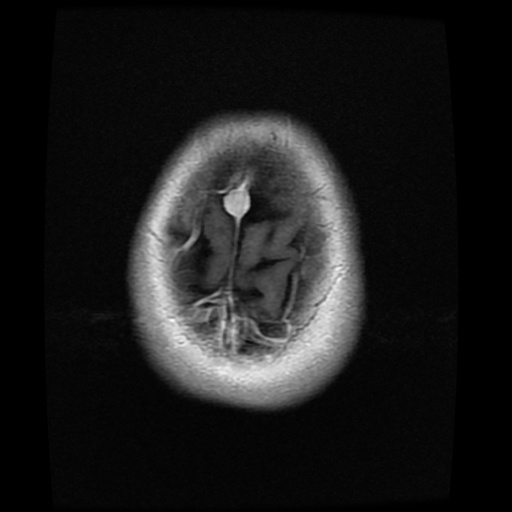meningioma: (223, 177, 249, 216)
